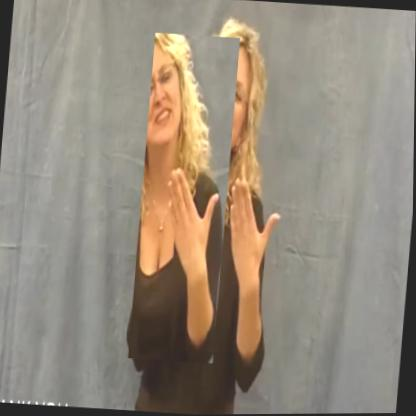ThankYou: (129, 33, 240, 364)
